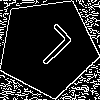L: (23, 22, 74, 74)
